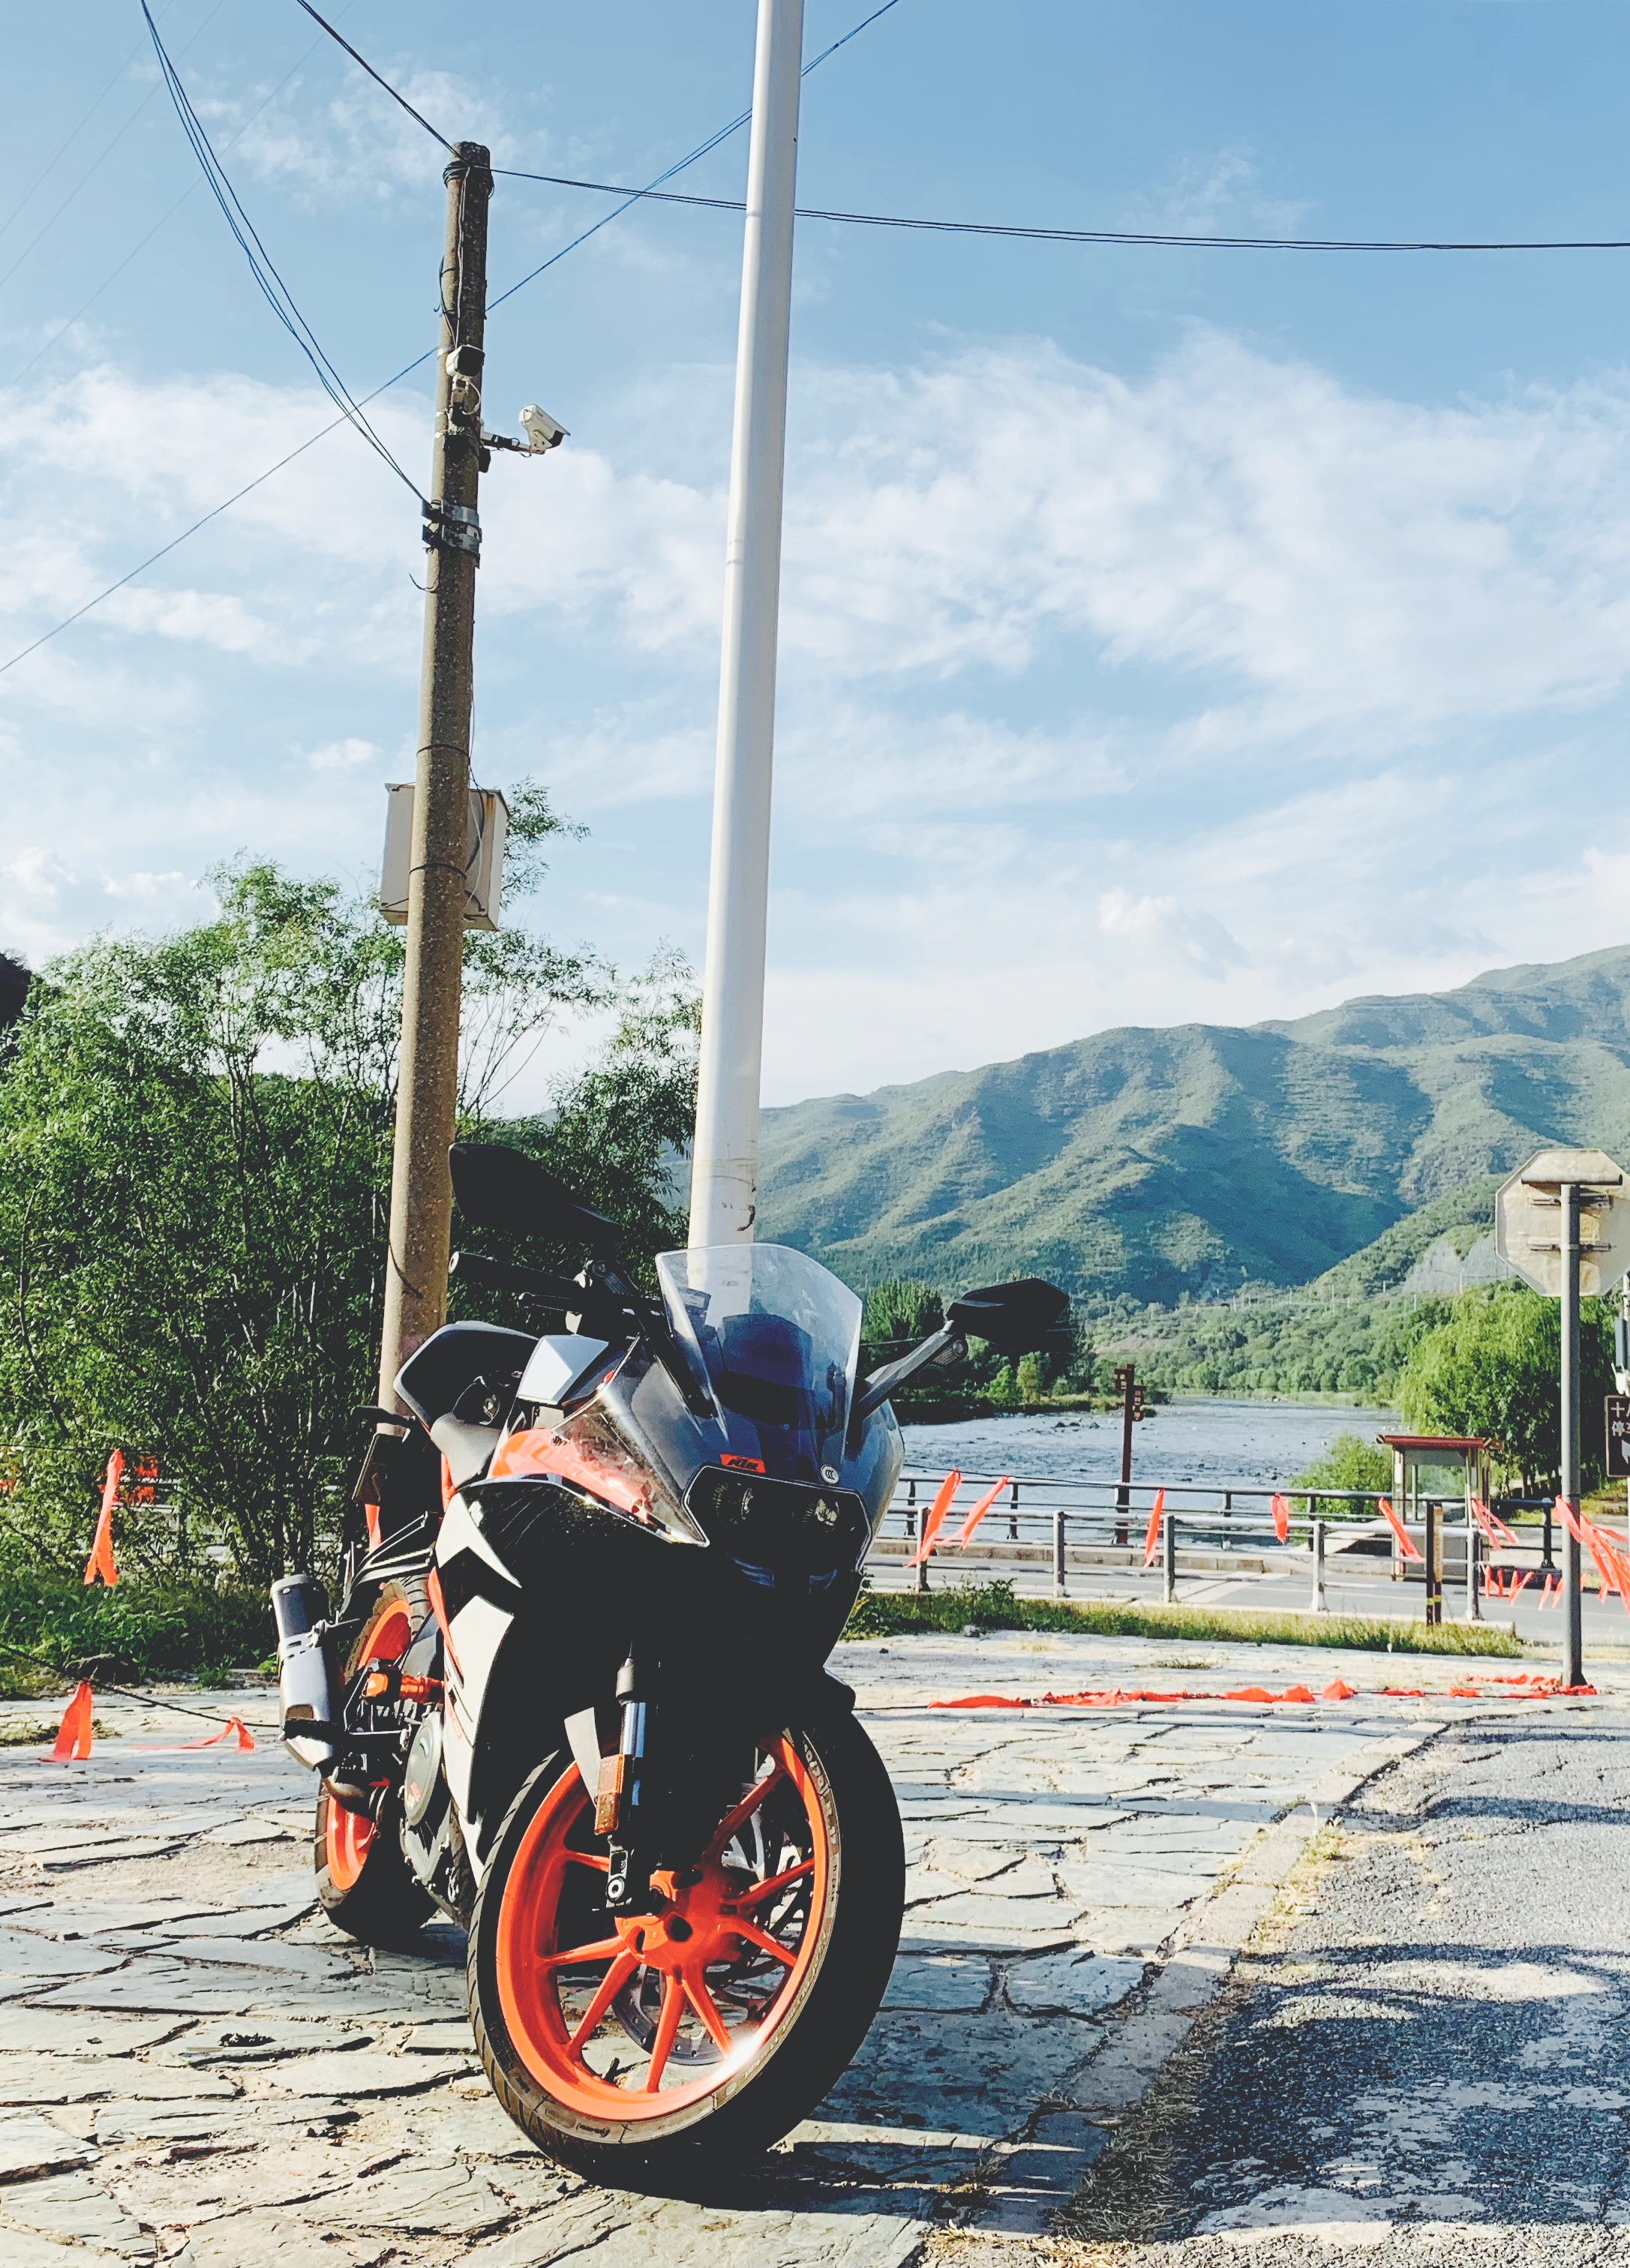utility_pole: (320, 111, 588, 599)
